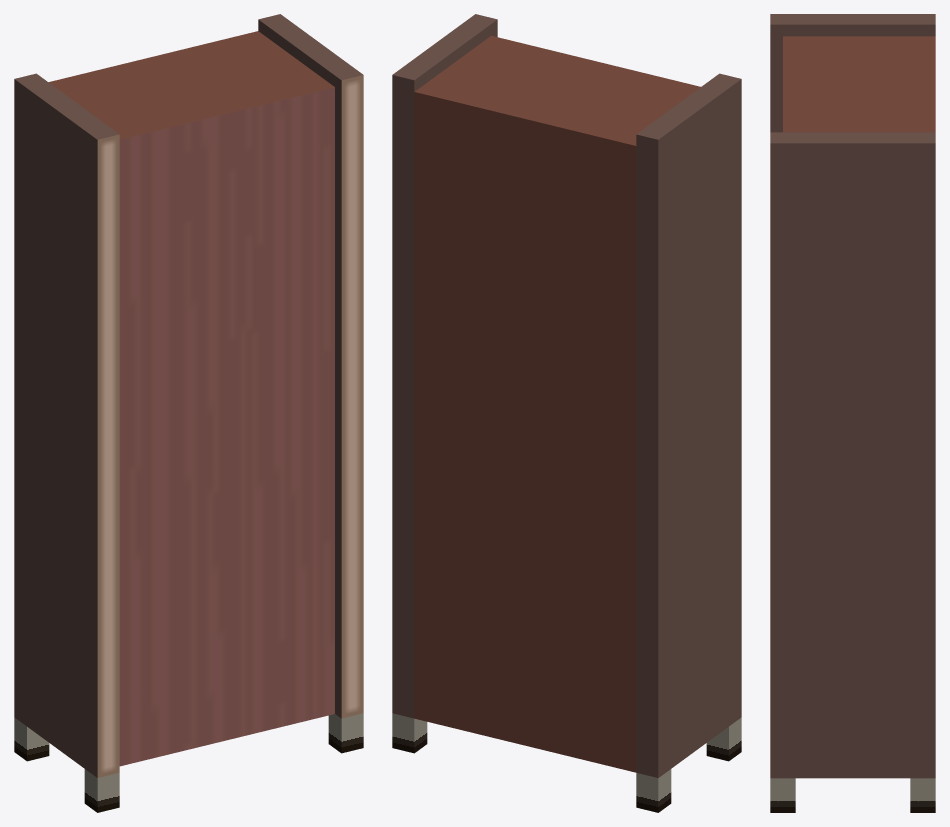
File: prop_cabinet_03.obj
3 renders of one model, left to right at view 1: azimuth 30°, elevation 25°; view 2: azimuth 150°, elevation 25°; view 3: azimuth 270°, elevation 25°, orthographic.
Parts seen in each view (by area): view 1: entity1_brush0, entity1_brush2, entity1_brush1, entity1_brush4, entity1_brush6, entity1_brush3; view 2: entity1_brush0, entity1_brush2, entity1_brush1, entity1_brush3, entity1_brush5, entity1_brush4; view 3: entity1_brush1, entity1_brush0, entity1_brush2, entity1_brush5, entity1_brush6.
Part boxes in pixels (<box>): entity1_brush0: <box>48,31,334,766</box>; entity1_brush2: <box>14,73,119,777</box>; entity1_brush1: <box>258,14,363,718</box>; entity1_brush4: <box>84,769,119,812</box>; entity1_brush6: <box>328,713,363,753</box>; entity1_brush3: <box>14,717,49,761</box>; entity1_brush0: <box>414,35,700,772</box>; entity1_brush2: <box>636,73,741,777</box>; entity1_brush1: <box>392,14,497,718</box>; entity1_brush3: <box>636,769,671,812</box>; entity1_brush5: <box>392,713,427,753</box>; entity1_brush4: <box>706,717,741,761</box>; entity1_brush1: <box>770,132,935,778</box>; entity1_brush0: <box>783,36,935,132</box>; entity1_brush2: <box>770,14,935,132</box>; entity1_brush5: <box>910,778,935,812</box>; entity1_brush6: <box>770,778,795,812</box>.
Size of the model in its own units: 48 by 116 by 26.
